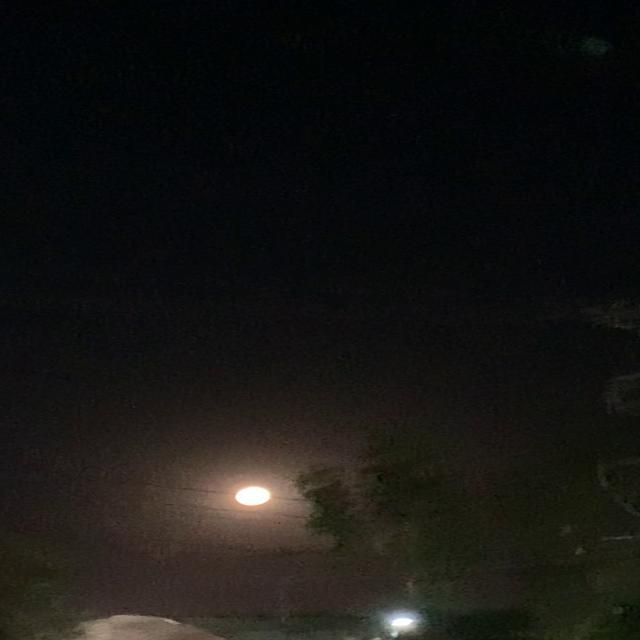moon: (215, 486, 268, 512)
